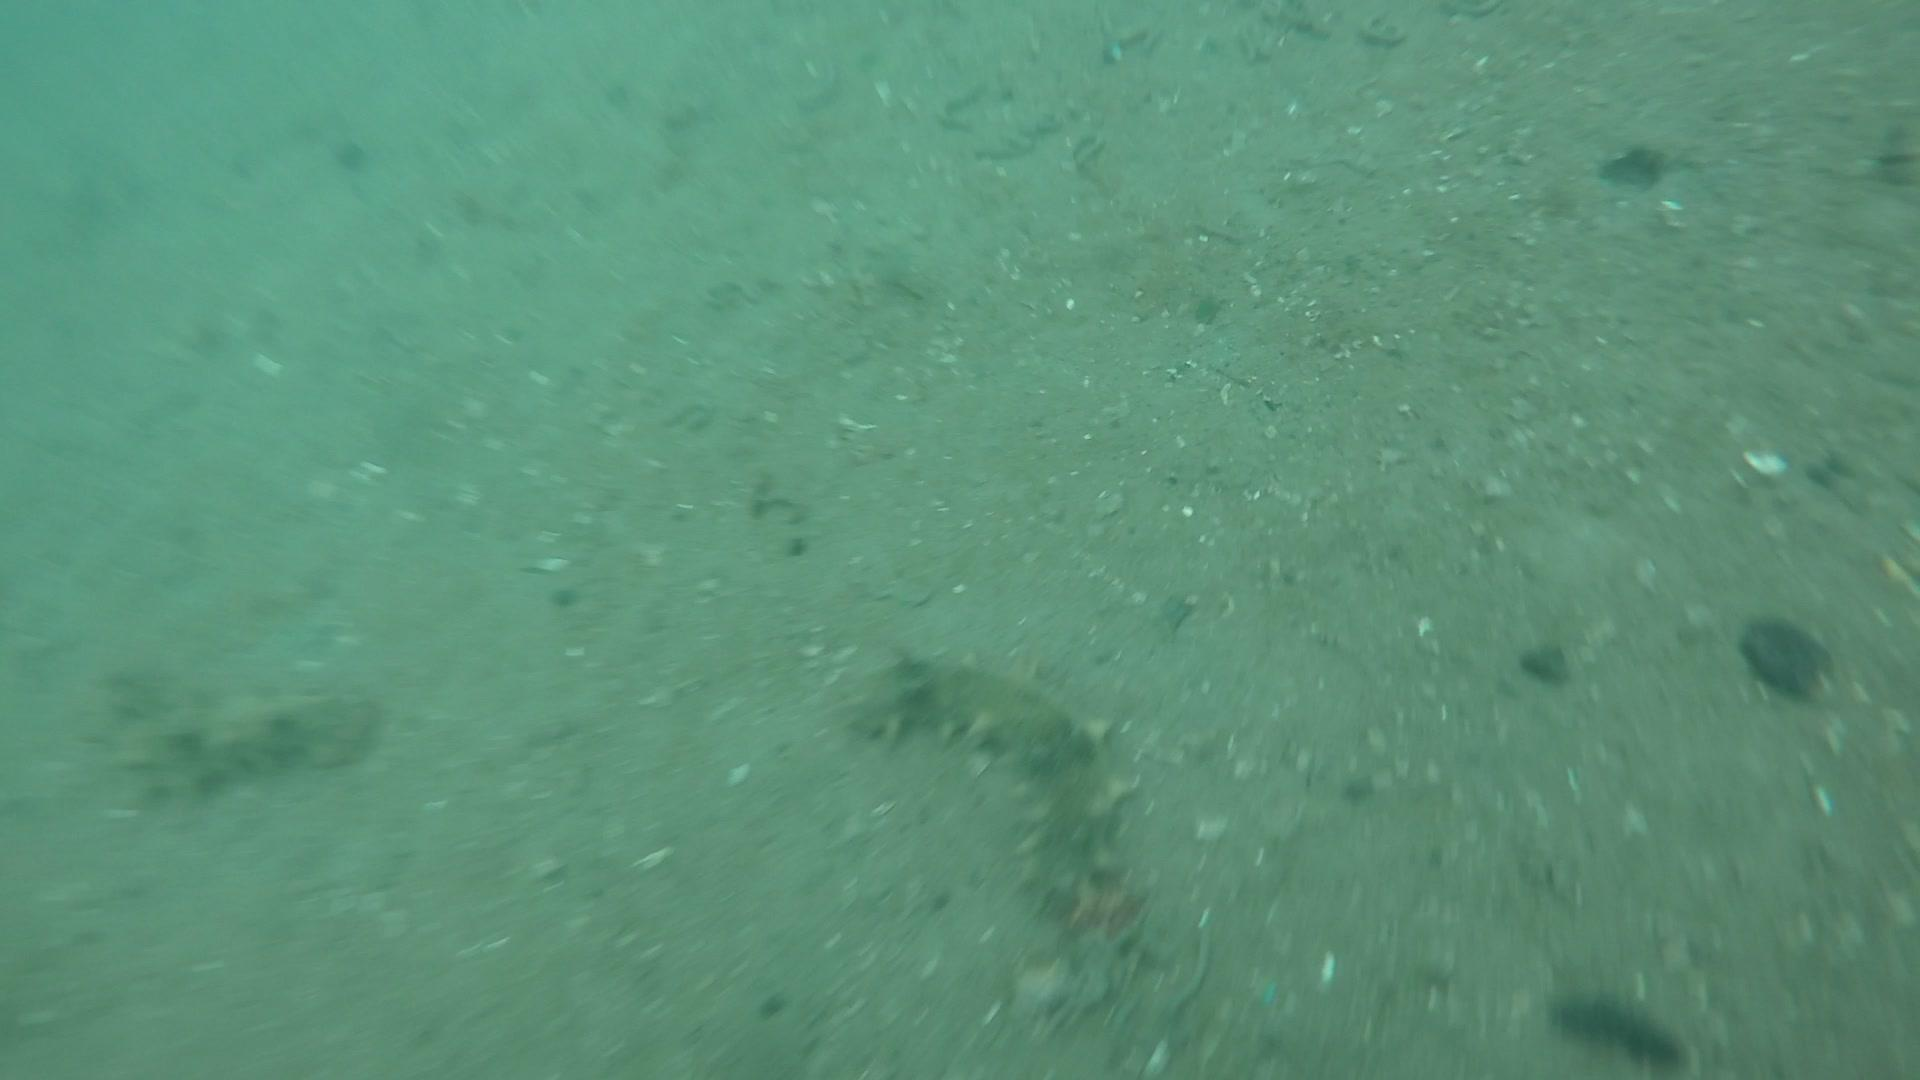holothurian: (843, 644, 1143, 913), (92, 683, 392, 804)
